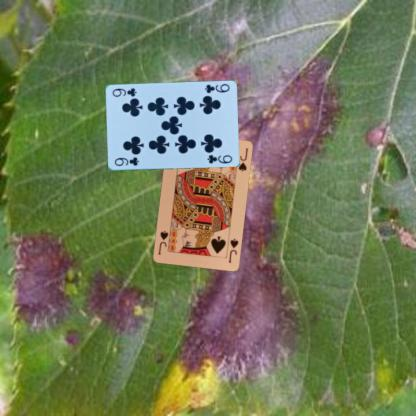9c: (111, 155, 140, 167), (202, 82, 231, 94)
Js: (225, 236, 240, 263)
